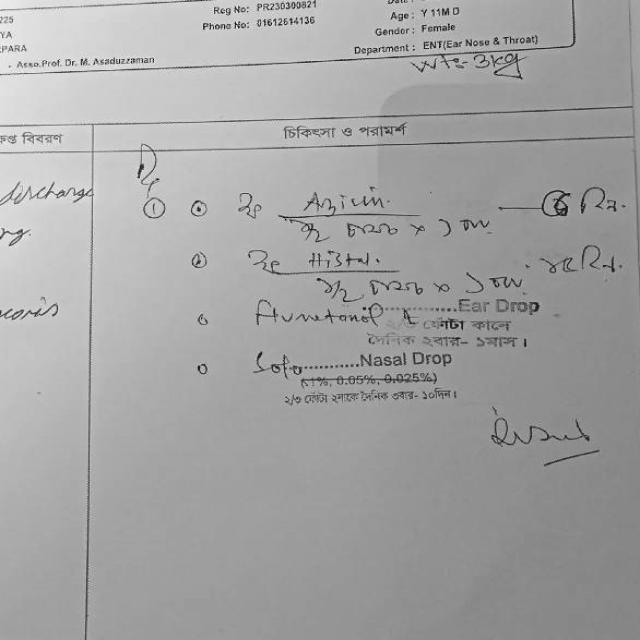medicine: (244, 300, 384, 332), (294, 184, 392, 218), (246, 344, 302, 381), (302, 248, 377, 268)
